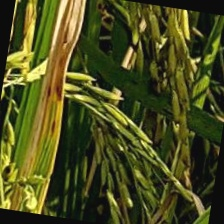Leaf_Blast: (28, 0, 81, 187)
